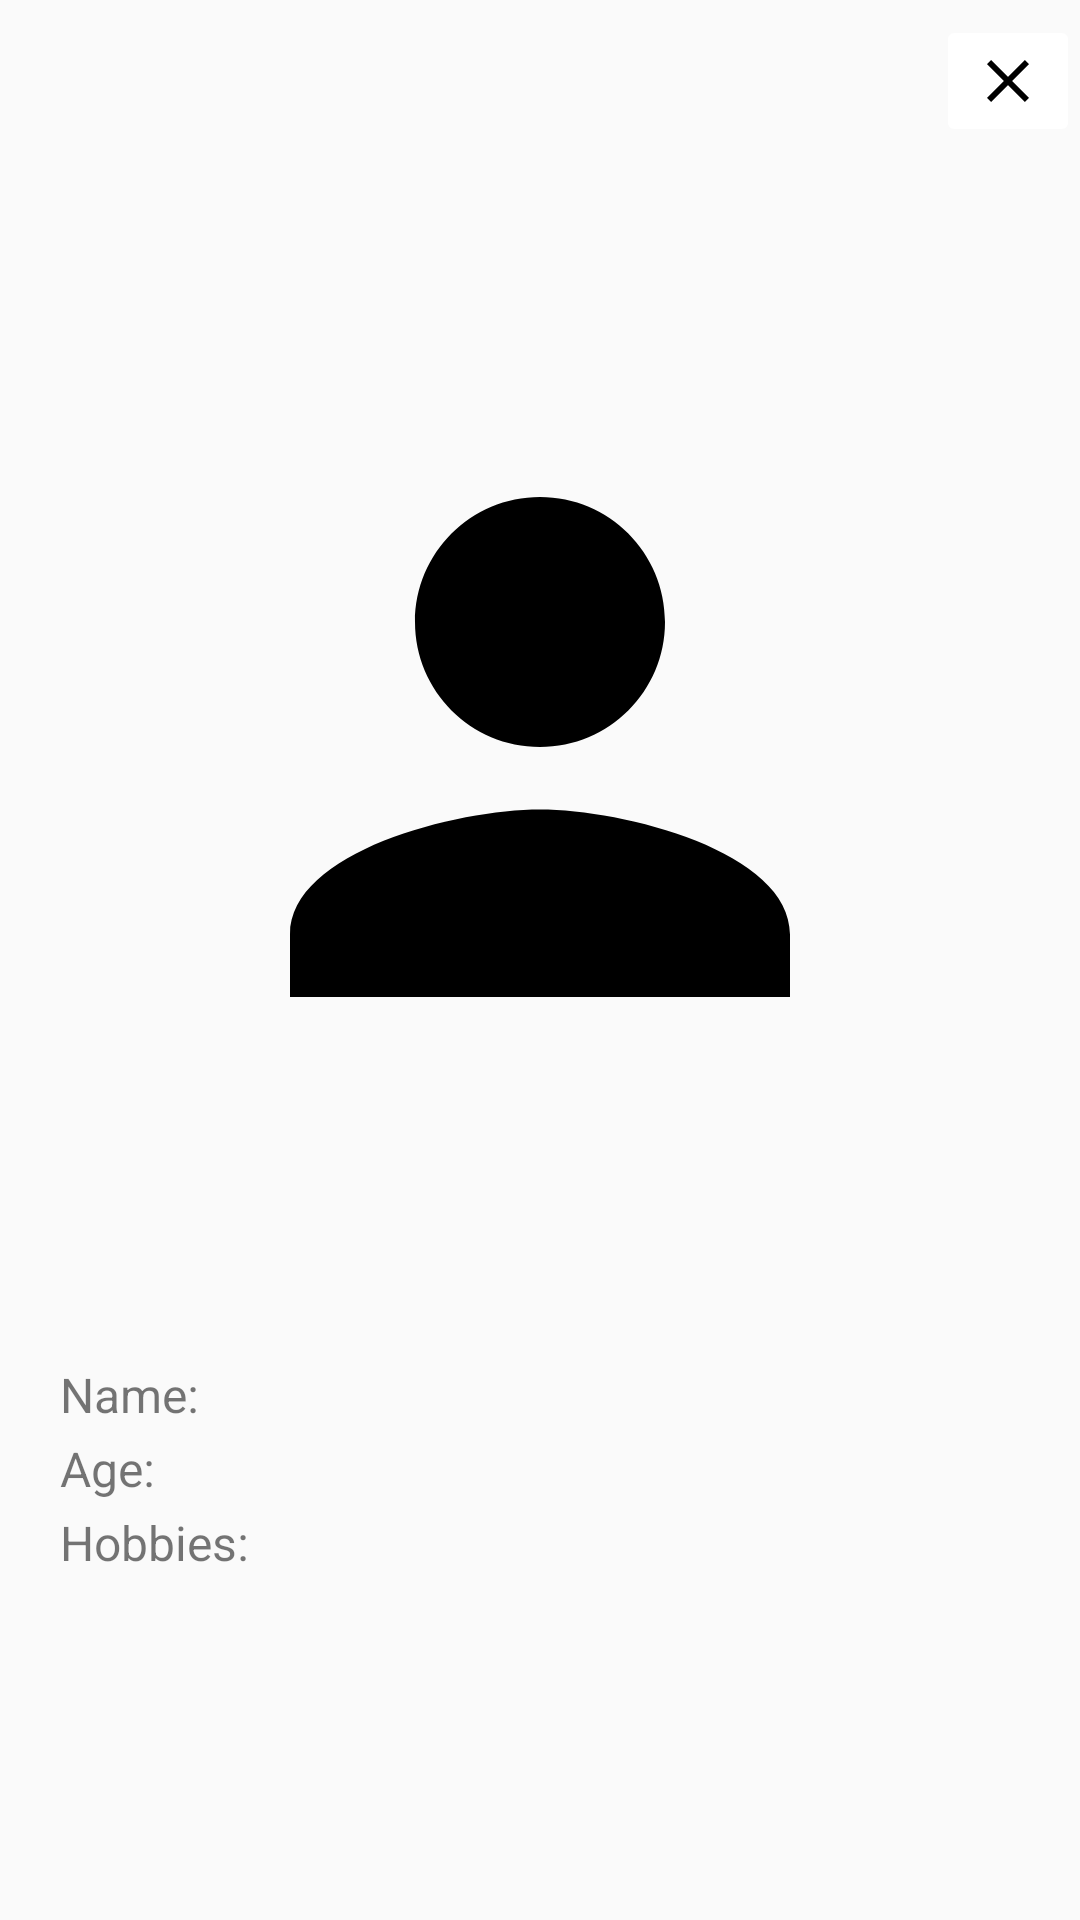

Named icons in this screenshot (1080 x 1920) and their centers, point (x, y):
delete element: point (1008, 81)
